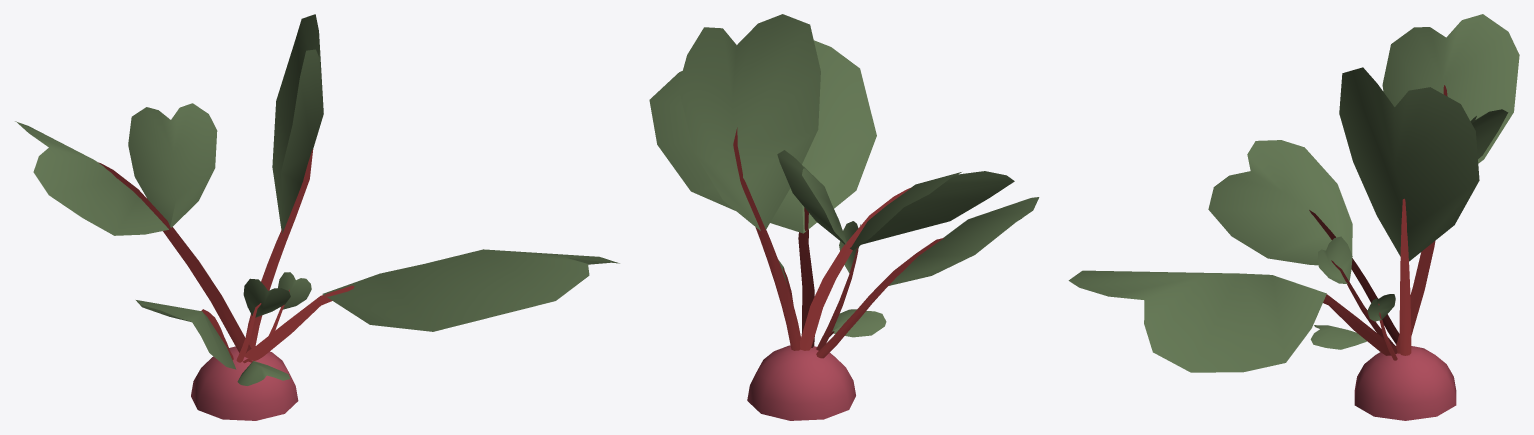
Rendered from PL_radishStage3_01.fbx.
The picture shows the model from 3 angles, left to right: view 1: azimuth 30°, elevation 25°; view 2: azimuth 150°, elevation 25°; view 3: azimuth 270°, elevation 25°; orthographic projection. The views are drawn at different scales.
Parts seen in each view (by area): view 1: PL_radishStage3_01; view 2: PL_radishStage3_01; view 3: PL_radishStage3_01.
Boxes of the visible parts, x1,y1,x2,y2 form: PL_radishStage3_01: (15, 14, 619, 420); PL_radishStage3_01: (649, 14, 1039, 420); PL_radishStage3_01: (1068, 14, 1519, 420).
Bounding box in the file's own units: 69.09 × 50.37 × 58.57.
Materials: 2 (2 with a texture image).
